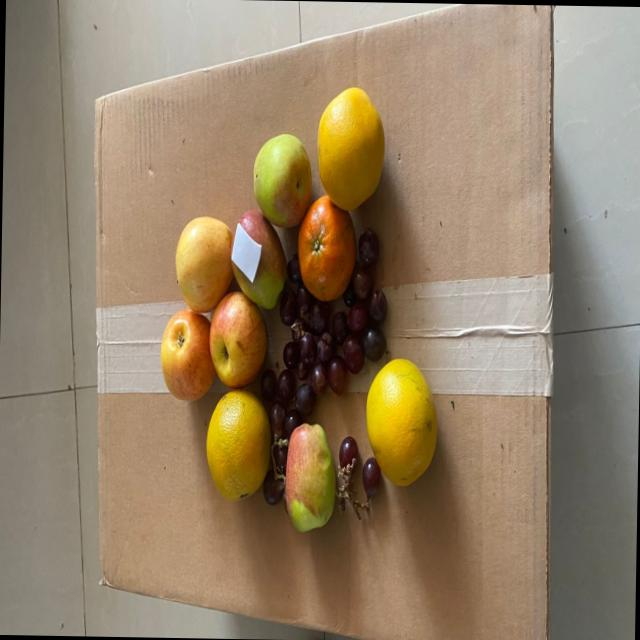hoja: (230, 224, 262, 278)
